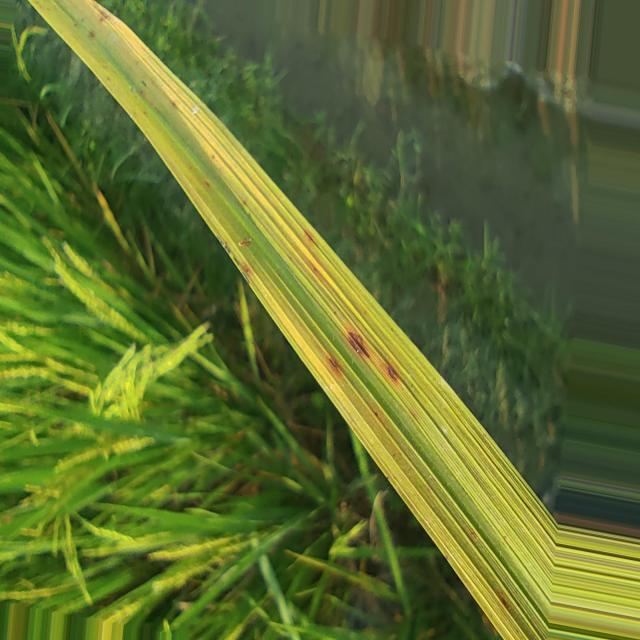Brown_Spot: (346, 328, 370, 358), (385, 360, 401, 385), (238, 262, 254, 282), (329, 357, 344, 377), (305, 225, 319, 243), (86, 23, 96, 40), (311, 263, 319, 275), (100, 6, 110, 13), (170, 93, 176, 103), (204, 180, 211, 188)
